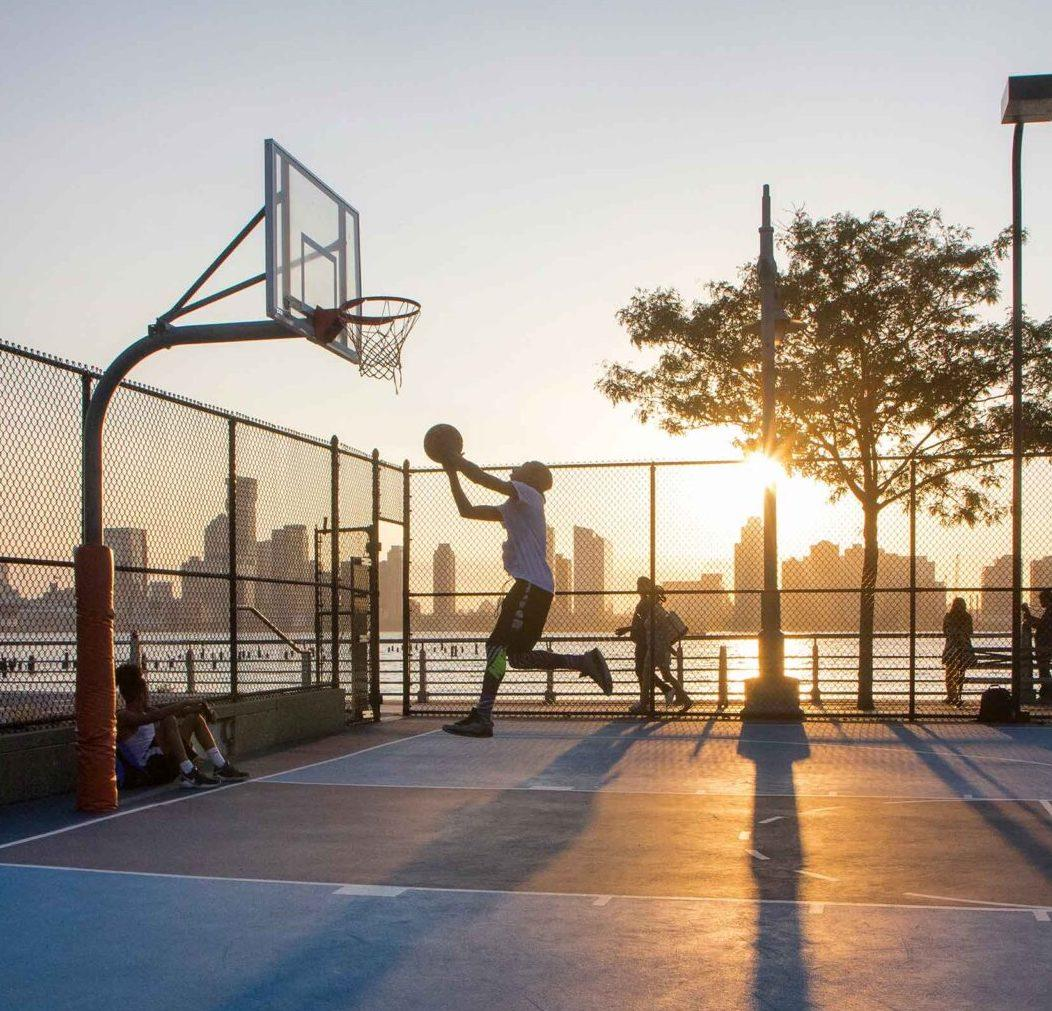basketball: (424, 420, 463, 466)
